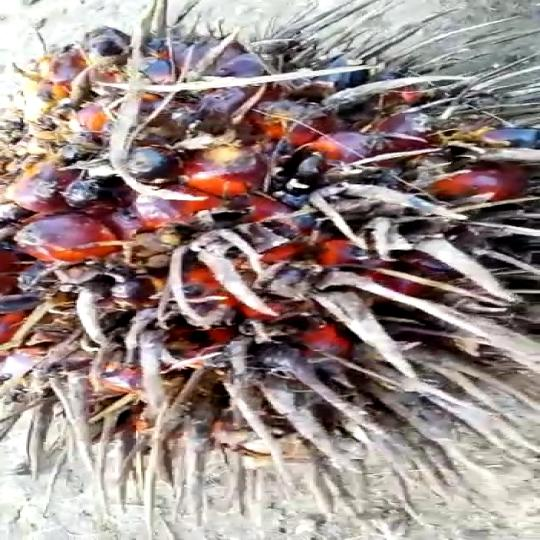terlalu masak: (0, 6, 540, 502)
